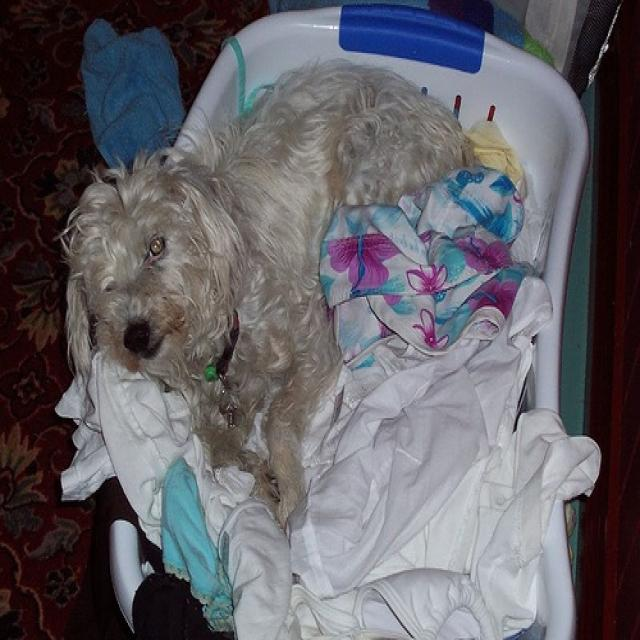dog: (60, 60, 476, 532)
